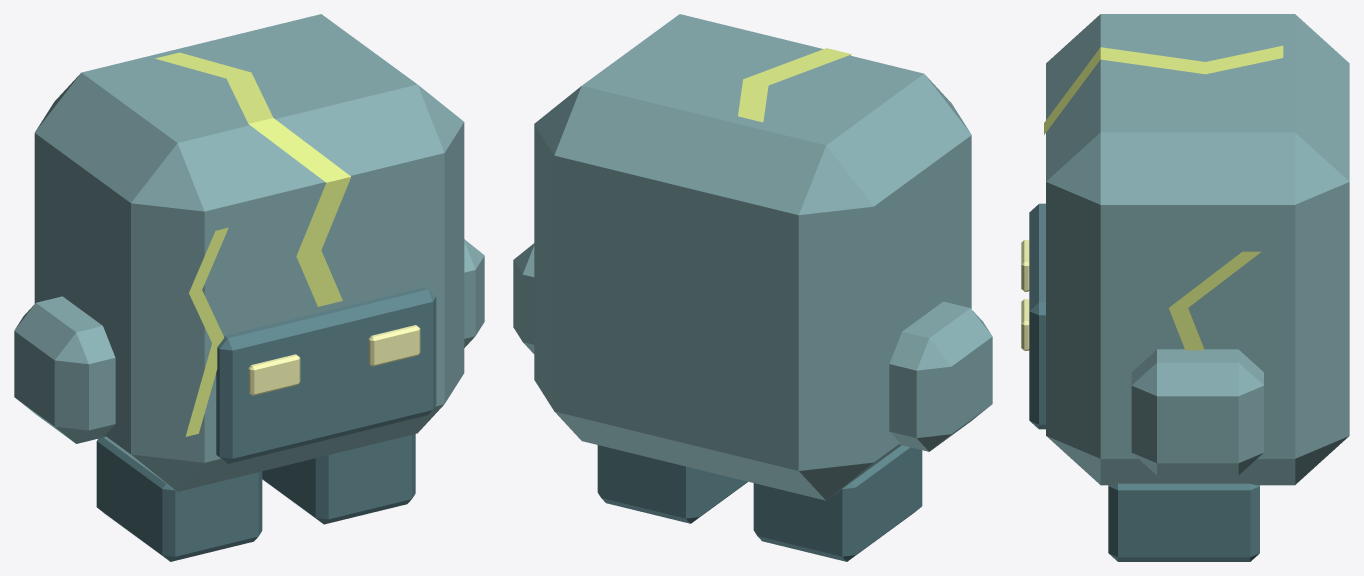
Rendered from EnemySplitter.fbx.
The picture shows the model from 3 angles, left to right: view 1: azimuth 30°, elevation 25°; view 2: azimuth 150°, elevation 25°; view 3: azimuth 270°, elevation 25°; orthographic projection.
Visible parts, largest first — view 1: EnemySplitter; view 2: EnemySplitter; view 3: EnemySplitter.
Boxes of the visible parts, x1,y1,x2,y2 form: EnemySplitter: (14, 14, 484, 561); EnemySplitter: (513, 14, 992, 561); EnemySplitter: (1021, 14, 1349, 561).
Size of the model in its own units: 129 by 122 by 84.35.
